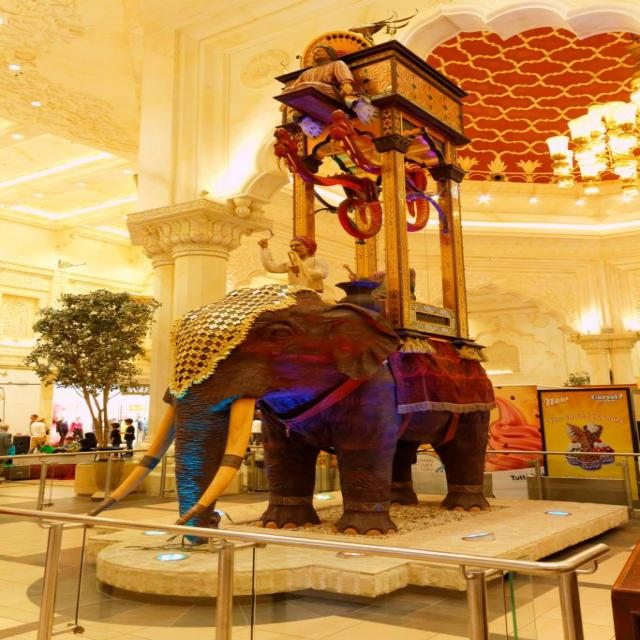elephant: (111, 272, 508, 574)
